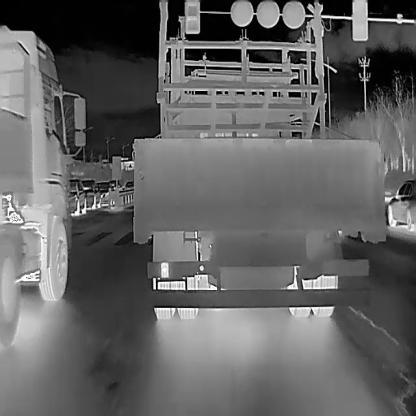car: (130, 59, 386, 318), (0, 23, 86, 351), (386, 177, 415, 233), (68, 179, 87, 215), (80, 177, 100, 210), (94, 181, 111, 207), (108, 178, 121, 193), (124, 178, 134, 192)
